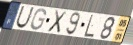8: (99, 16, 116, 41)
9: (65, 11, 82, 37)
G: (30, 8, 47, 32)
L: (83, 14, 95, 39)
U: (15, 5, 35, 30)
X: (46, 10, 68, 35)
